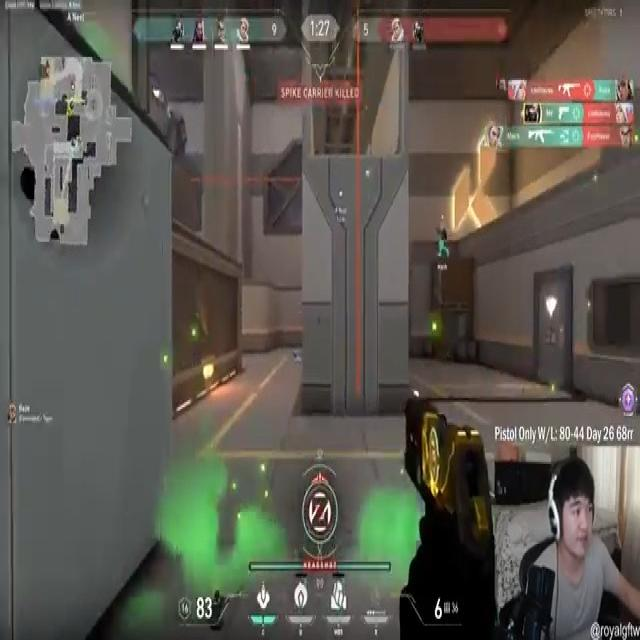ally: (437, 219, 449, 262)
